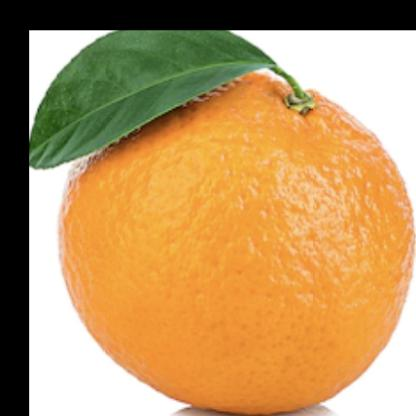rotten: (57, 48, 413, 416)
